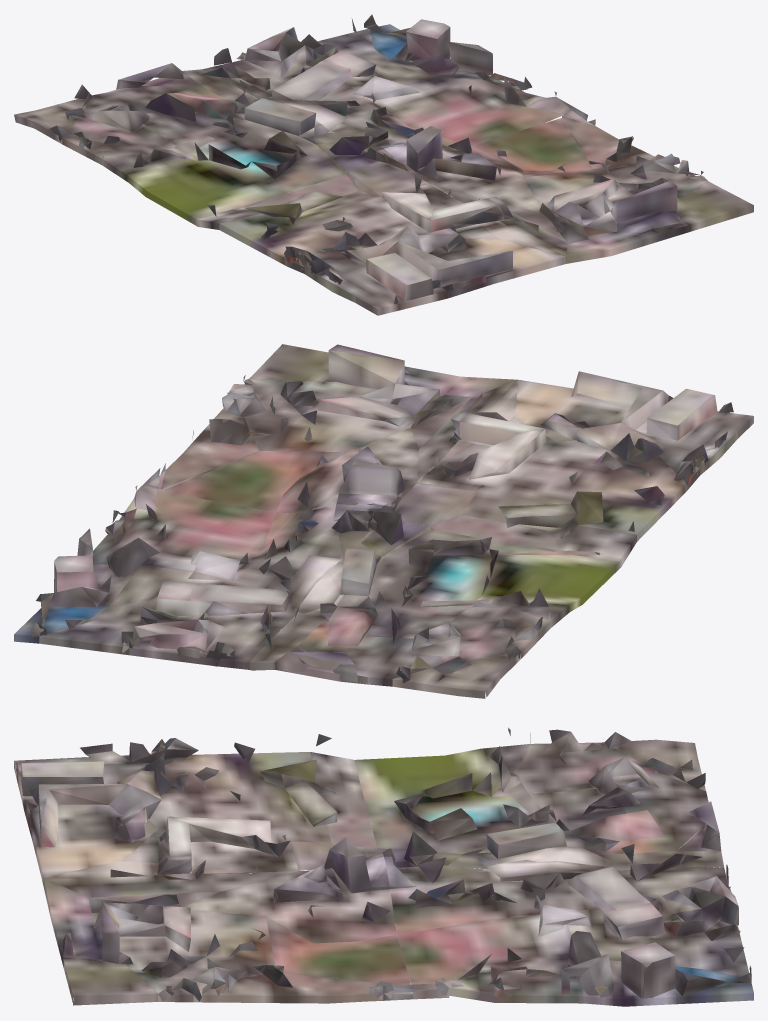
3 renders of one model, top to bottom at view 1: azimuth 30°, elevation 25°; view 2: azimuth 150°, elevation 25°; view 3: azimuth 270°, elevation 25°, orthographic. The views are drawn at different scales.
Visible parts, largest first — view 1: Mesh_0; view 2: Mesh_0; view 3: Mesh_0.
Part boxes in pixels (bbox=[...]): Mesh_0: bbox=[14, 14, 753, 315]; Mesh_0: bbox=[14, 344, 753, 698]; Mesh_0: bbox=[14, 727, 753, 1006].
Size of the model in its own units: 532 by 73.85 by 659.
1 material, 1 textured.
